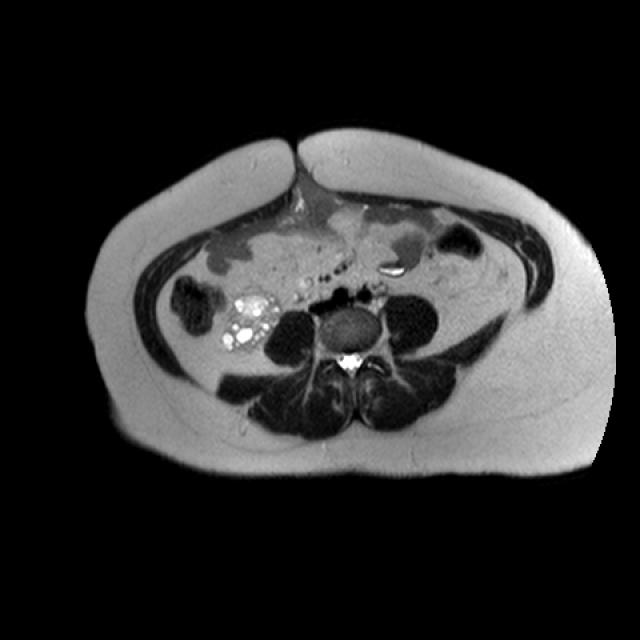sag: (221, 281, 282, 351)
